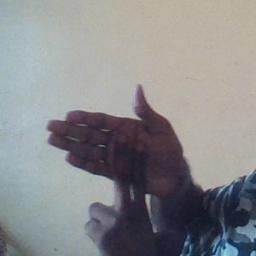N: (39, 77, 180, 255)
